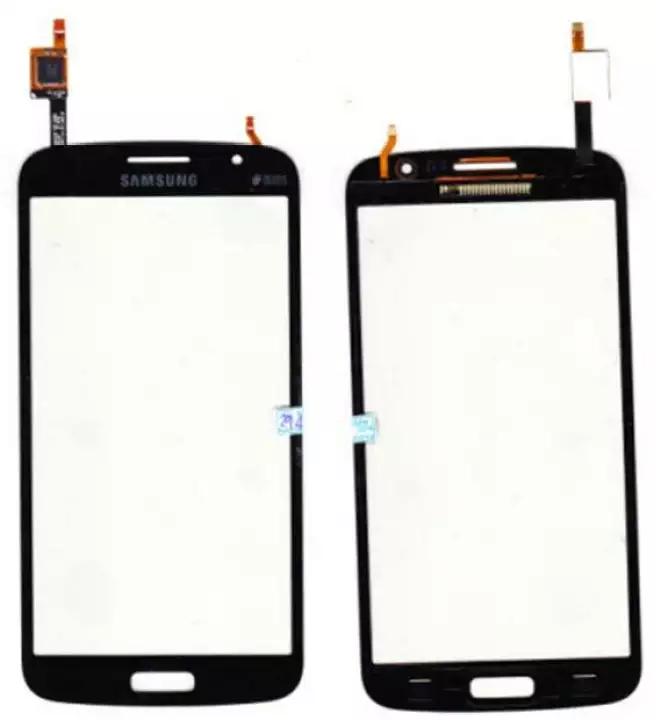phone: (338, 142, 651, 720), (13, 134, 310, 711)
